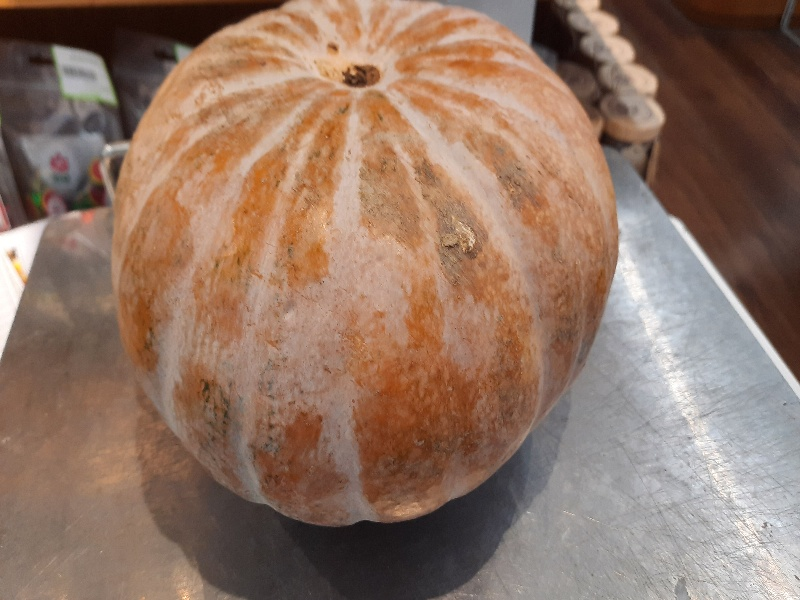vege: (110, 1, 623, 537)
